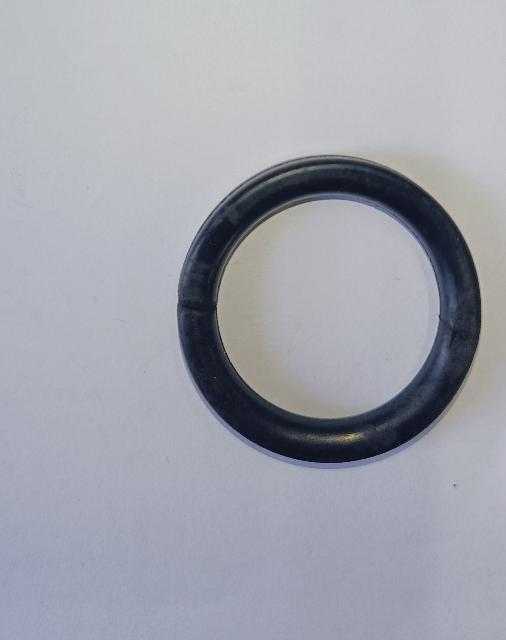scratch: (176, 297, 217, 323)
